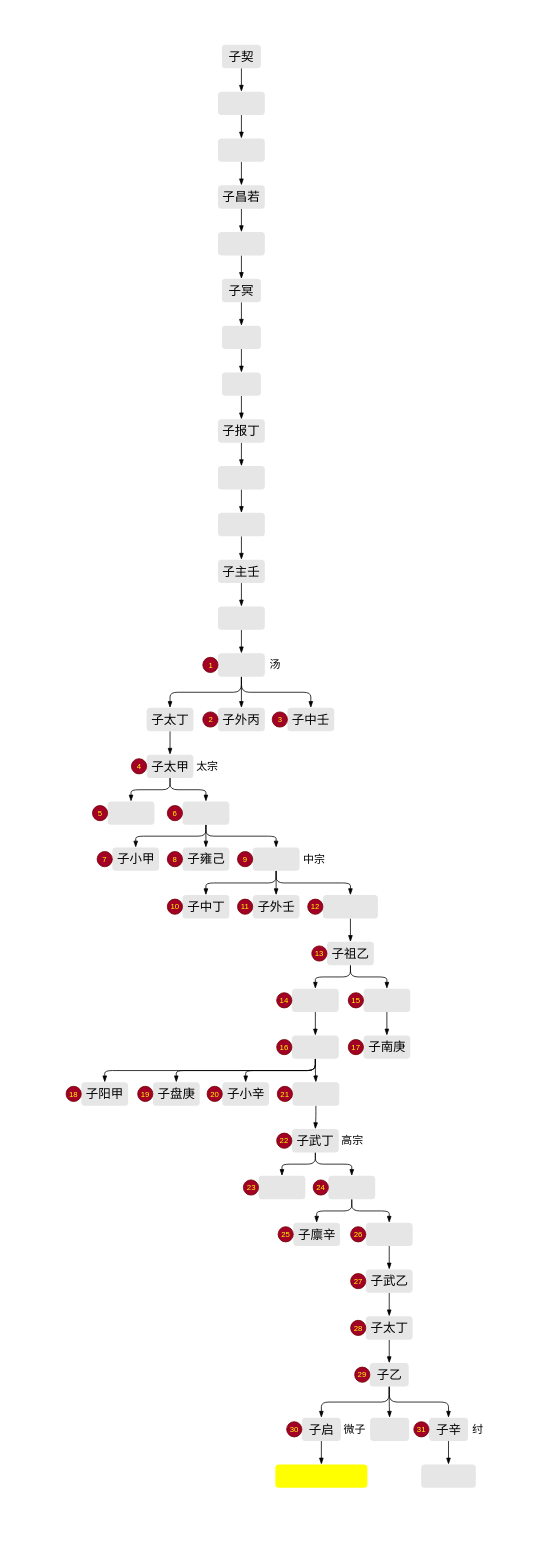
Some shapes in this 549 by 1555 pixel diagram are drawn without their labels. Here are the shapes that lost their labels. From the top down, the centre of each, then its label:
At point (241, 103): "子昭明".
At point (241, 149): "子相土".
At point (241, 243): "子曹圉".
At point (241, 337): "子振".
At point (241, 383): "子微".
At point (241, 477): "子报乙".
At point (241, 524): "子报丙".
At point (241, 617): "子主癸".
At point (241, 664): "子天乙".
At point (130, 812): "子沃丁".
At point (205, 812): "子太庚".
At point (275, 858): "子太戊".
At point (350, 906): "子河亶甲".
At point (315, 1000): "子祖辛".
At point (386, 1000): "子沃甲".
At point (315, 1046): "子祖丁".
At point (315, 1093): "子小乙".
At point (281, 1187): "子祖庚".
At point (351, 1187): "子祖甲".
At point (388, 1234): "子庚丁".
At point (389, 1429): "子衍".
At point (321, 1475): "【宋微子世系】".
At point (448, 1475): "武庚禄父".
